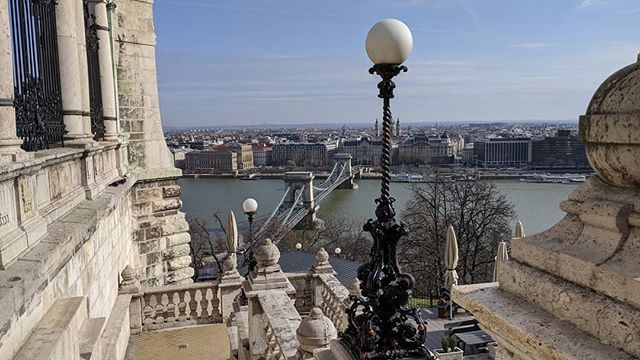bridge: (228, 163, 367, 269)
building: (1, 1, 160, 360), (395, 132, 463, 168), (473, 135, 537, 173), (183, 142, 255, 173), (272, 141, 335, 170), (340, 139, 387, 168)
light pole: (355, 15, 428, 360)
river: (190, 177, 583, 266)
sky: (158, 1, 640, 126)
